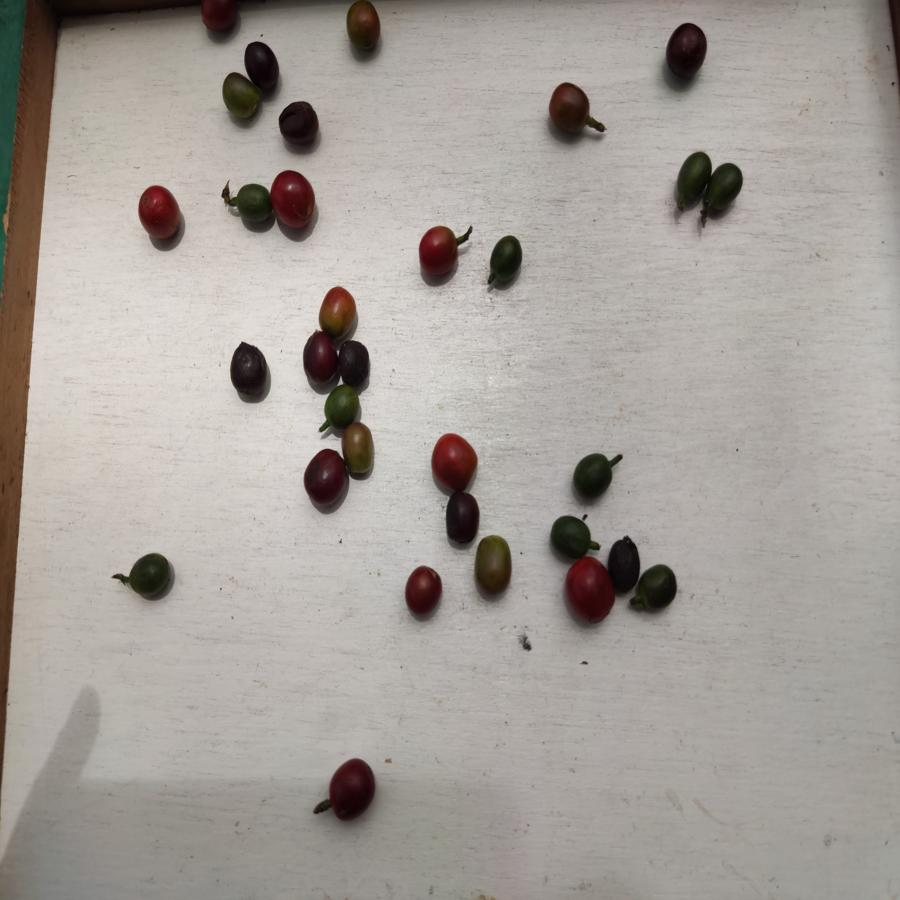Inmaduro: (126, 550, 171, 599), (548, 510, 593, 557), (704, 162, 744, 214), (641, 562, 679, 615), (487, 235, 524, 287), (573, 452, 613, 498), (230, 183, 269, 227), (676, 151, 708, 203), (322, 386, 360, 426)
Maduro: (565, 557, 615, 626), (270, 165, 318, 232), (427, 430, 480, 488), (137, 184, 185, 246), (417, 225, 461, 281)
Pinton: (340, 1, 388, 56), (315, 284, 359, 337), (476, 537, 511, 595), (341, 426, 377, 477), (219, 74, 256, 123)
Sobremaduro: (328, 758, 377, 823), (298, 450, 345, 512), (664, 20, 709, 80), (547, 82, 595, 136), (231, 341, 271, 401), (277, 98, 320, 149), (302, 331, 339, 388), (335, 340, 377, 389), (405, 567, 444, 619), (244, 41, 282, 92), (443, 492, 479, 545), (606, 536, 641, 590), (197, 1, 241, 35)
